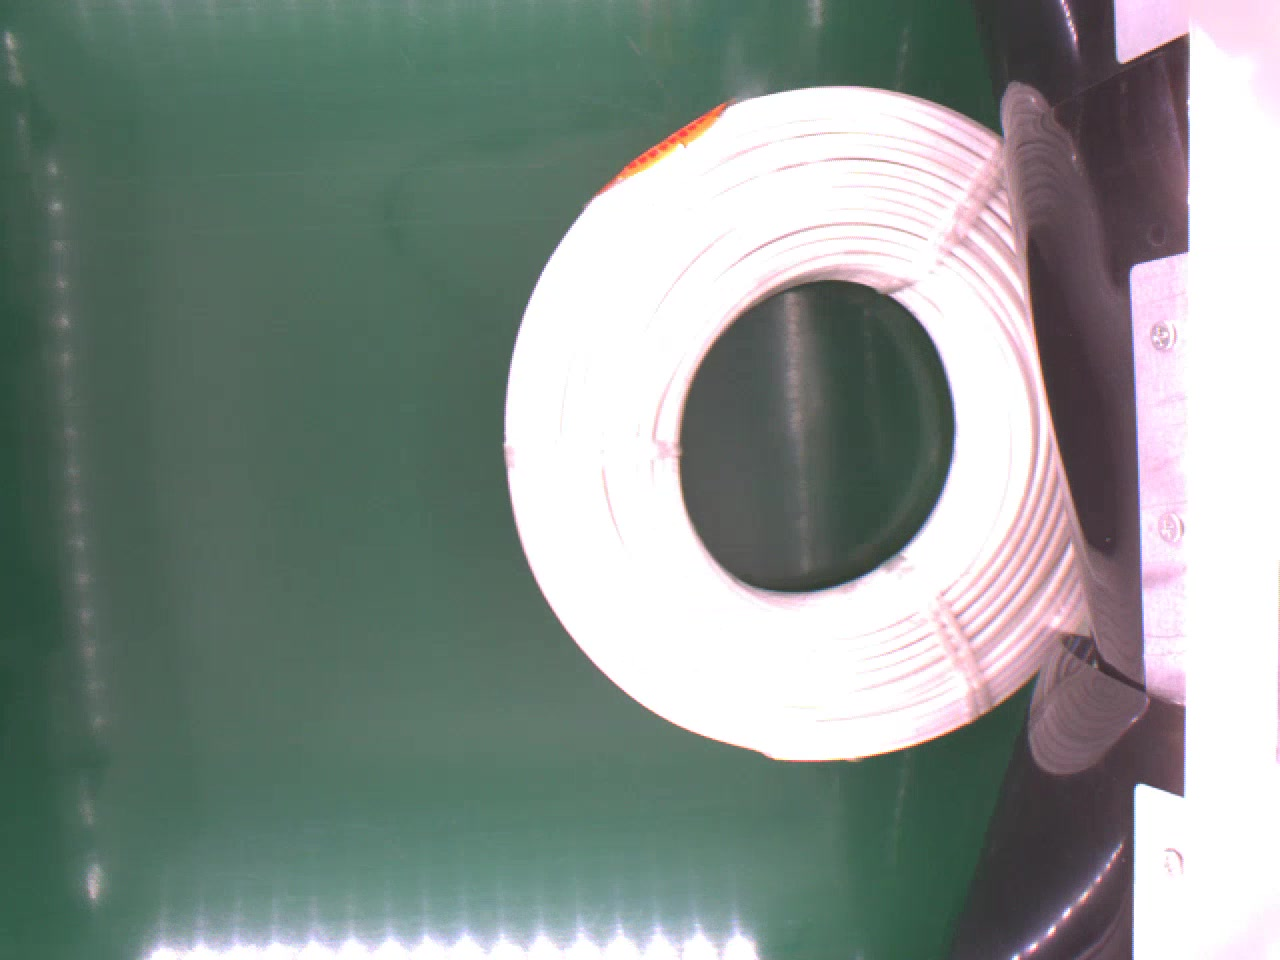white: (489, 83, 1083, 771)
